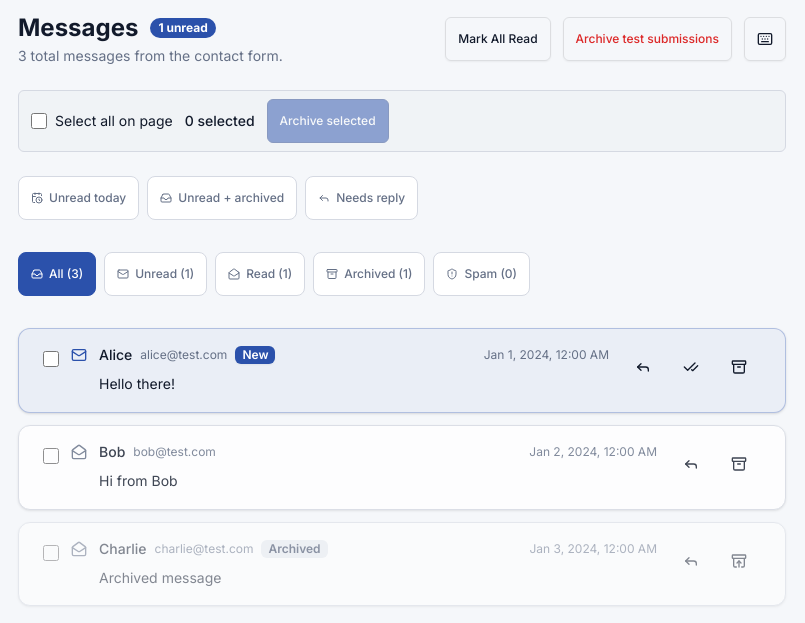
Scenario: MessagesViewer › clears the selection when the filter changes
Expected: the text "Alice" is shown, [99,345,132,365]
What coordinates should you click on to do the following:
click the checkbox named "Select message from Alice"
I would click on:
 (51, 359)
Its box is [43,351,59,367].
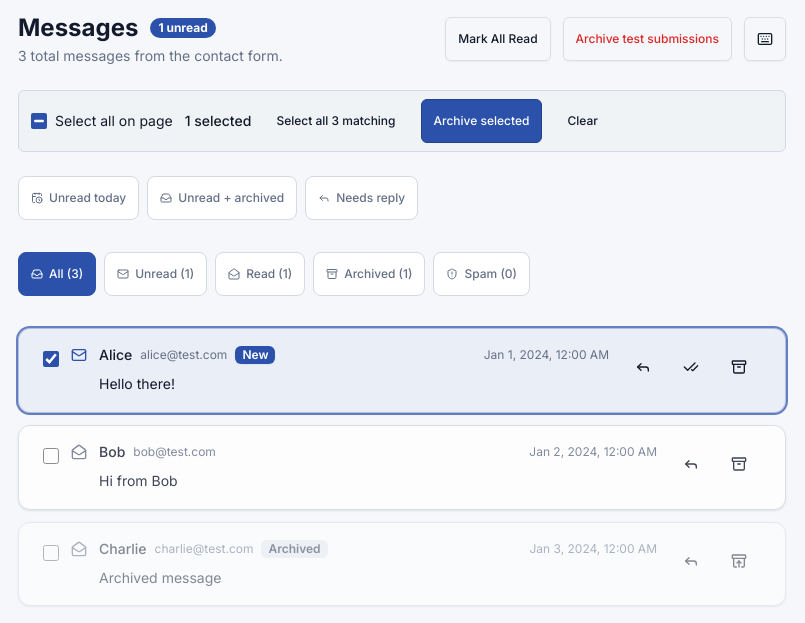
Expected: the text "1 selected" is shown, [185,111,251,131]
What coordinates should you click on to do the following:
click the tab "Unread (1)"
I would click on:
 (156, 274)
Its box is [104,252,207,296].
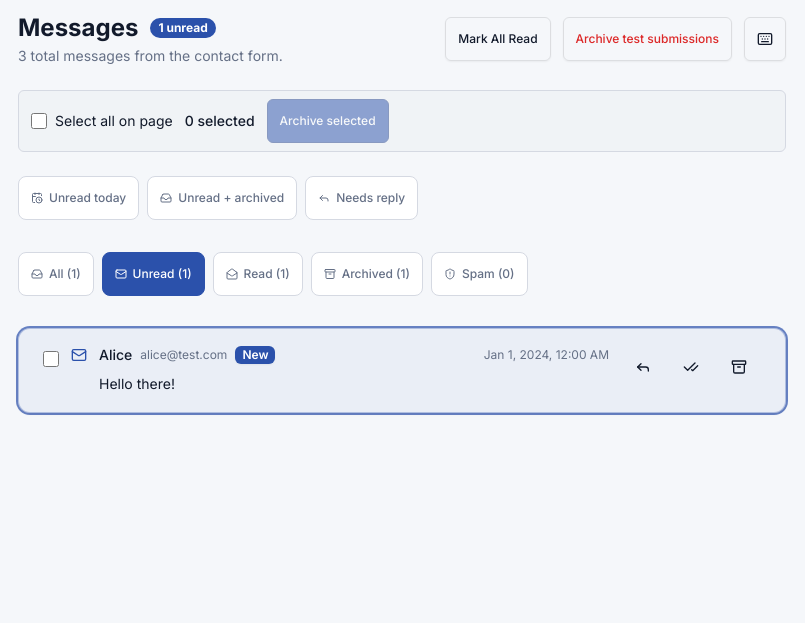
Expected: the text "1 selected" is gone
